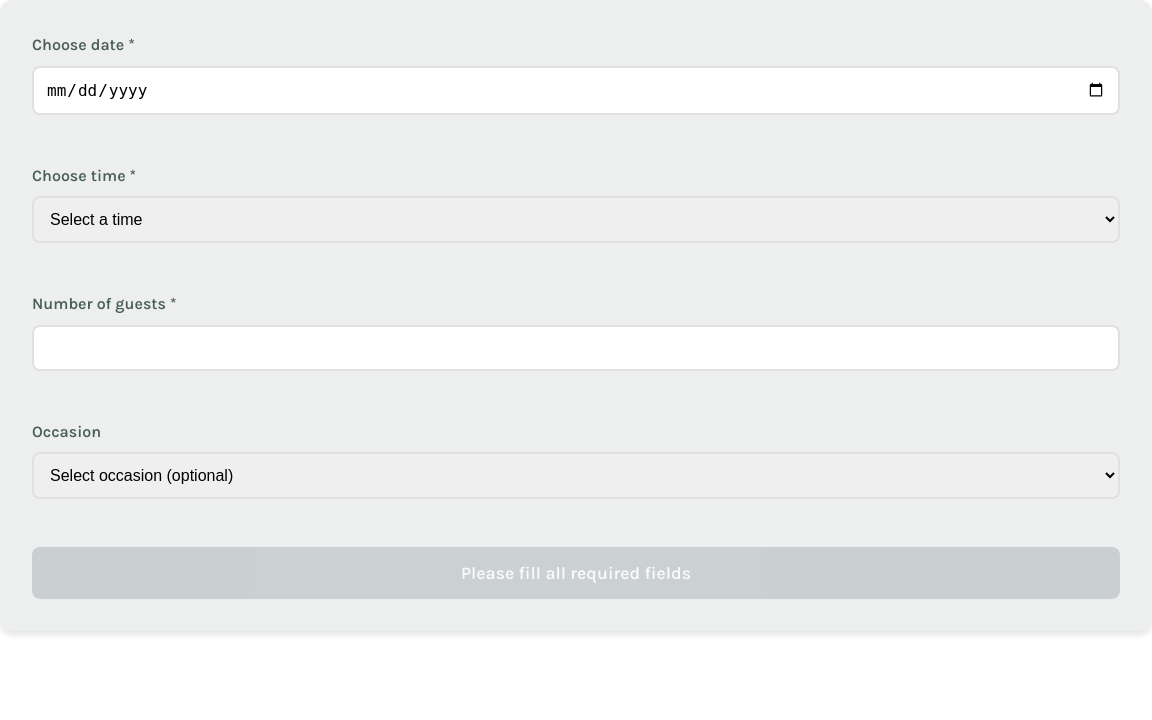
Date validation works correctly
The width and height of the screenshot is (1152, 720).
Try to select a past date
In the date field labelled "Choose date *": (576, 90) [32,66,1120,115], type "2020-01-01"
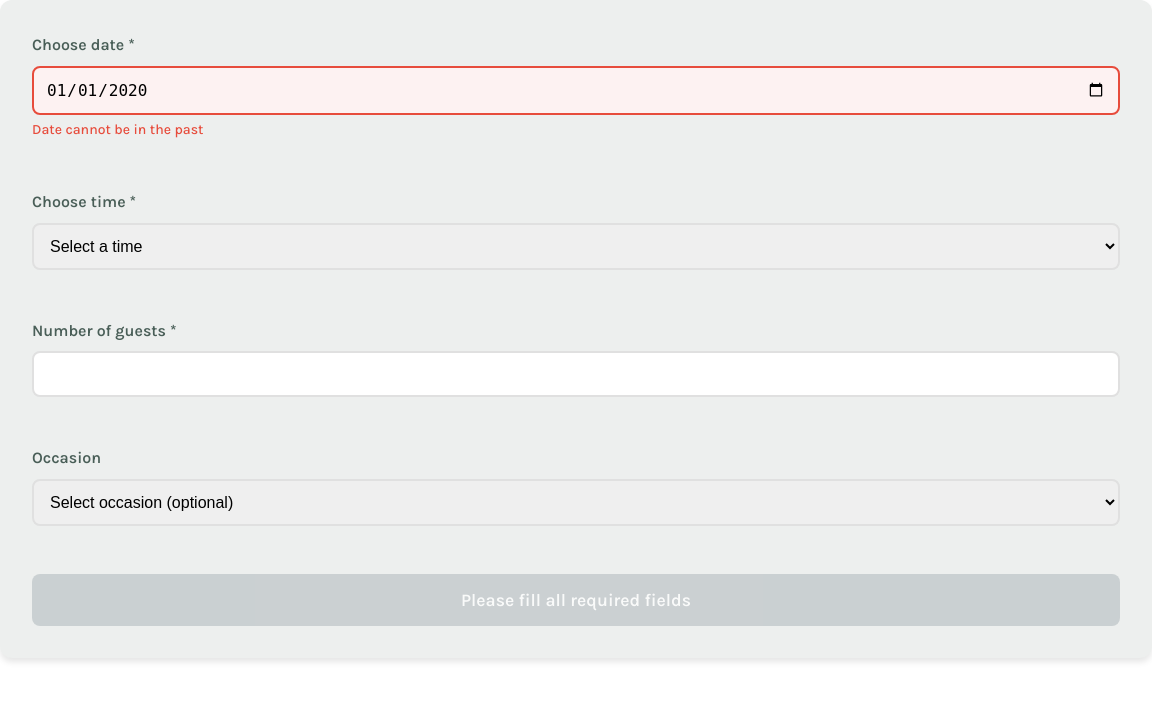
Check: the text "Date cannot be in the past" is shown, box [32,121,203,138]
